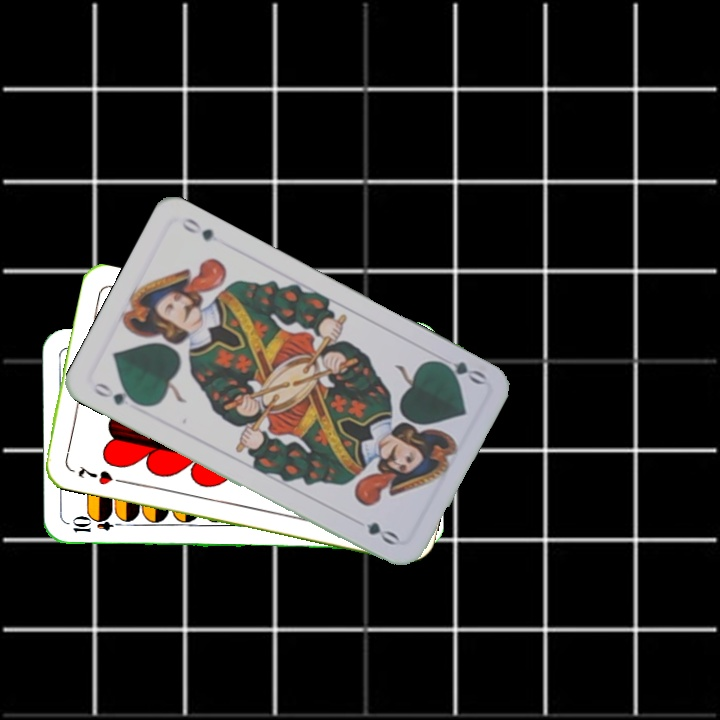E10: (68, 516, 127, 535)
GO: (430, 356, 488, 387), (89, 378, 145, 409)
H7: (74, 461, 125, 488)
